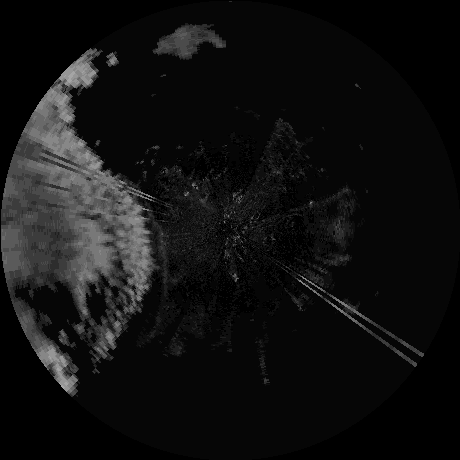frontgust: (145, 202, 171, 305)
